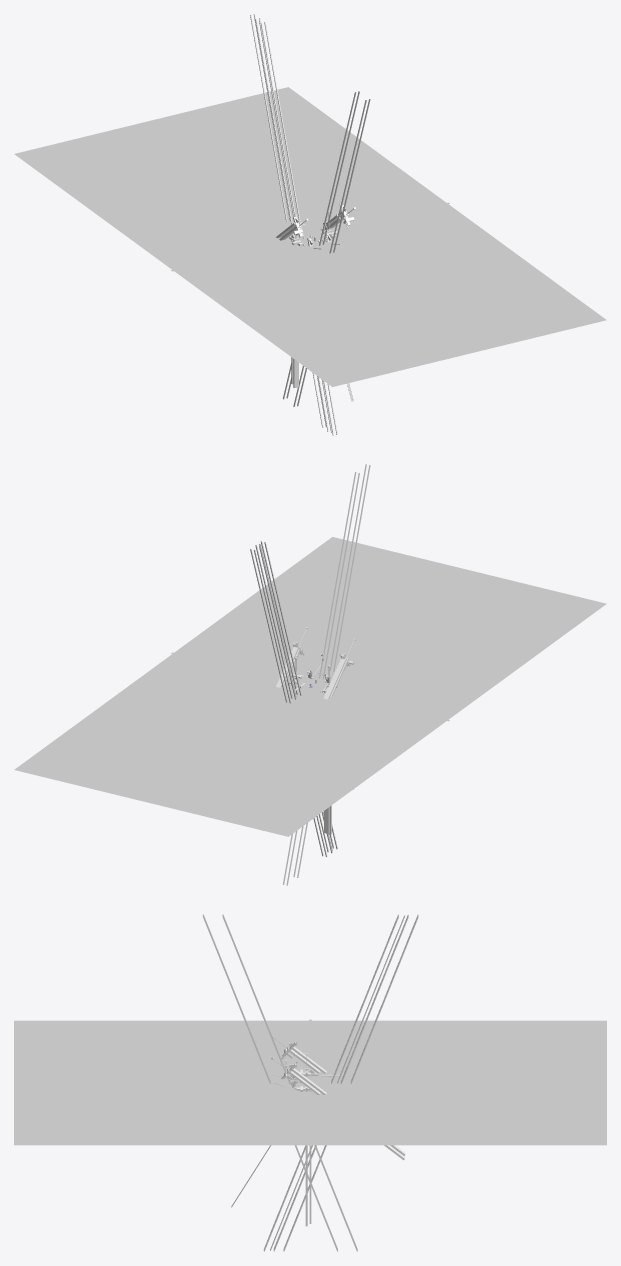
The model's file is Menu.glb.
The picture shows the model from 3 angles, top to bottom: view 1: azimuth 30°, elevation 25°; view 2: azimuth 150°, elevation 25°; view 3: azimuth 270°, elevation 25°; orthographic projection. The views are drawn at different scales.
Visible parts, largest first — view 1: Quad, Quad (1), CombinedMesh, FrontColumns; view 2: Quad (1), Quad, CombinedMesh, FrontColumns; view 3: Quad (1), Quad, CombinedMesh (×3), FrontColumns.
Part boxes in pixels (box(x1,y1,x2,y2)): Quad: box(174, 204, 606, 386); Quad (1): box(14, 87, 446, 269); CombinedMesh: box(250, 14, 337, 435); FrontColumns: box(283, 90, 370, 406); Quad (1): box(14, 654, 446, 836); Quad: box(174, 537, 606, 719); CombinedMesh: box(250, 540, 337, 856); FrontColumns: box(283, 464, 370, 885); Quad (1): box(312, 1020, 606, 1145); Quad: box(14, 1020, 308, 1145); CombinedMesh (×3): box(263, 914, 418, 1251); FrontColumns: box(202, 914, 357, 1251).
Bounding box in the file's own units: 304 × 376 × 603.
10 materials, 1 textured.
